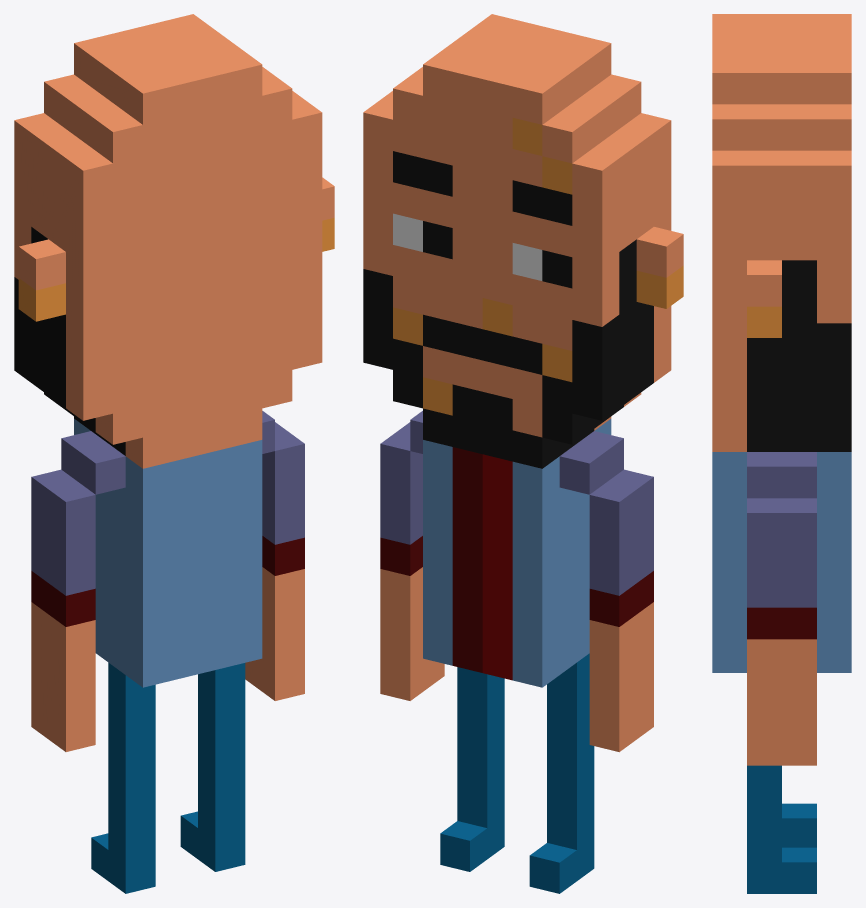
The model's file is persoMale.obj.
3 views of the same model, side by side, from view 1: azimuth 30°, elevation 25°; view 2: azimuth 150°, elevation 25°; view 3: azimuth 270°, elevation 25° (orthographic).
Bounding box in the file's own units: 1 × 2.6 × 0.4.
1 material, 1 textured.
